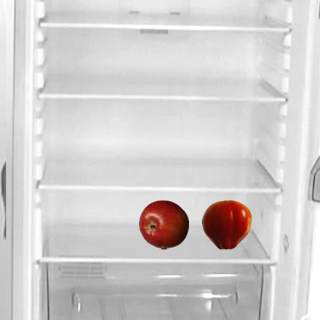Apple Braeburn: (138, 199, 188, 249)
Tomato 1: (201, 199, 251, 249)
